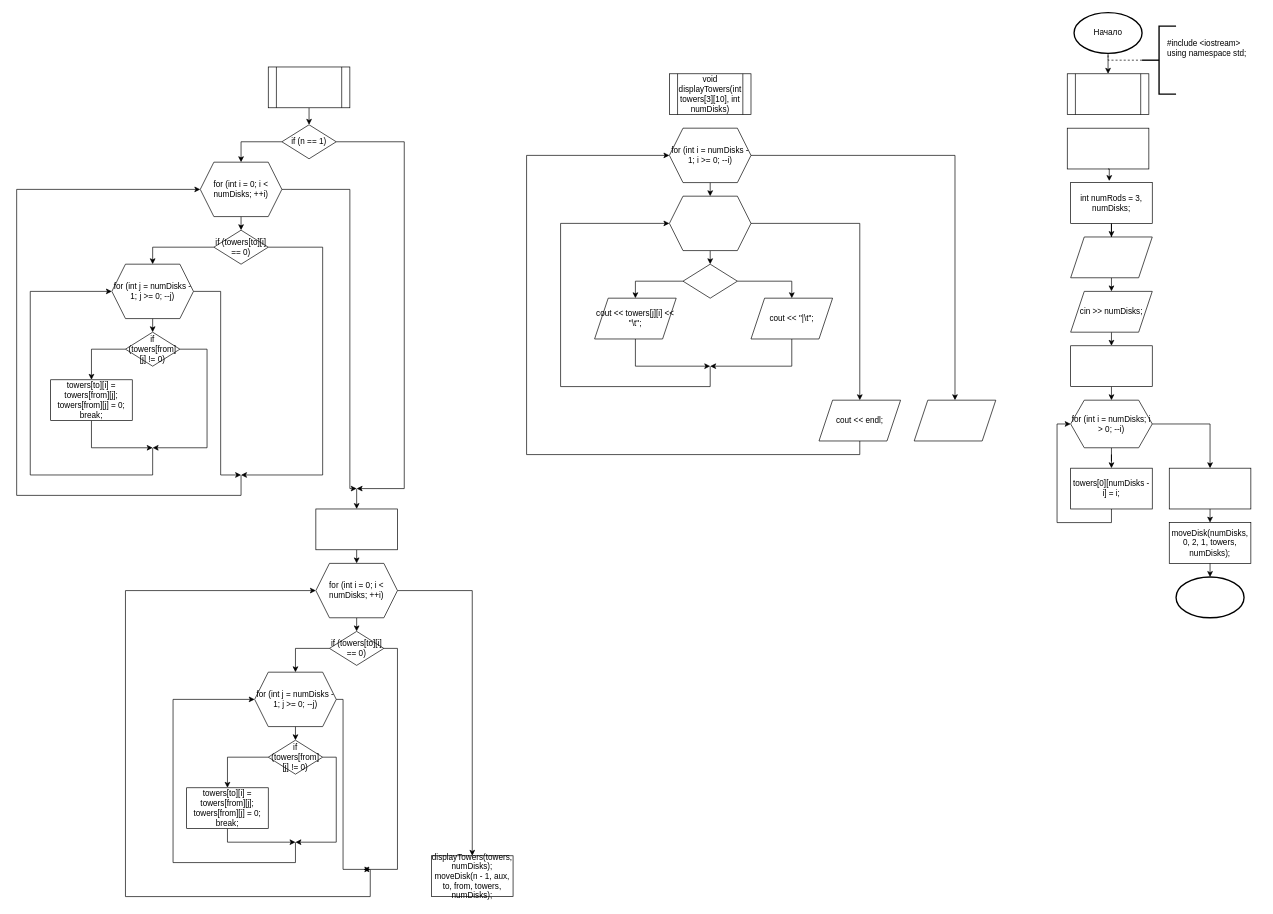
Some shapes in this 1273 by 914 pixel diagram are drawn without their labels. The centre of each missing label's shape, as x and y in pixels:
cout << "A\tB\tC\n\n";: the point at 955,420
cout << "Введите количество дисков: ";: the point at 1111,257
displayTowers(towers, numDisks);: the point at 1210,488
for (int j = 0; j < 3; ++j): the point at 710,223
if (towers[j][i] != 0): the point at 709,281
int main(): the point at 1108,94
int towers[3][10] = { 0 };: the point at 1111,366
moveDisk(n - 1, from, aux, to, towers, numDisks);: the point at 356,529
return 0;: the point at 1209,597
setlocale(LC_ALL,"ru");: the point at 1108,148
void moveDisk(int n, int from, int to, int aux, int towers[3][10], int numDisks): the point at 309,87
